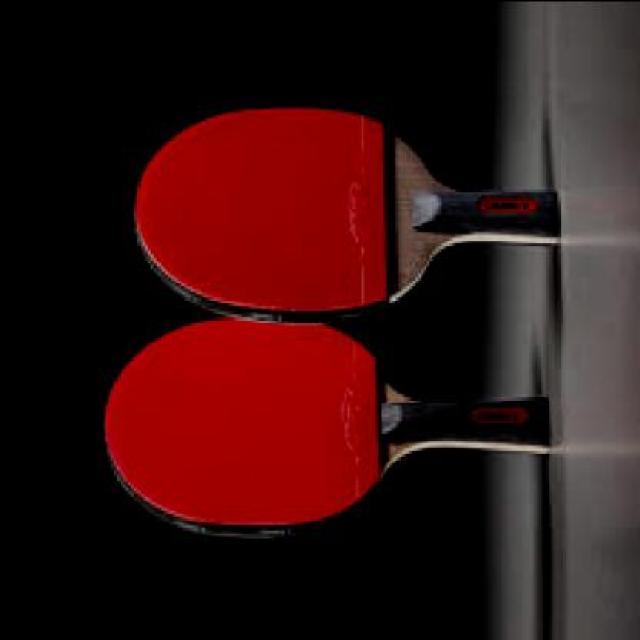table_tennis_racket: (101, 318, 408, 543), (132, 103, 445, 319)
